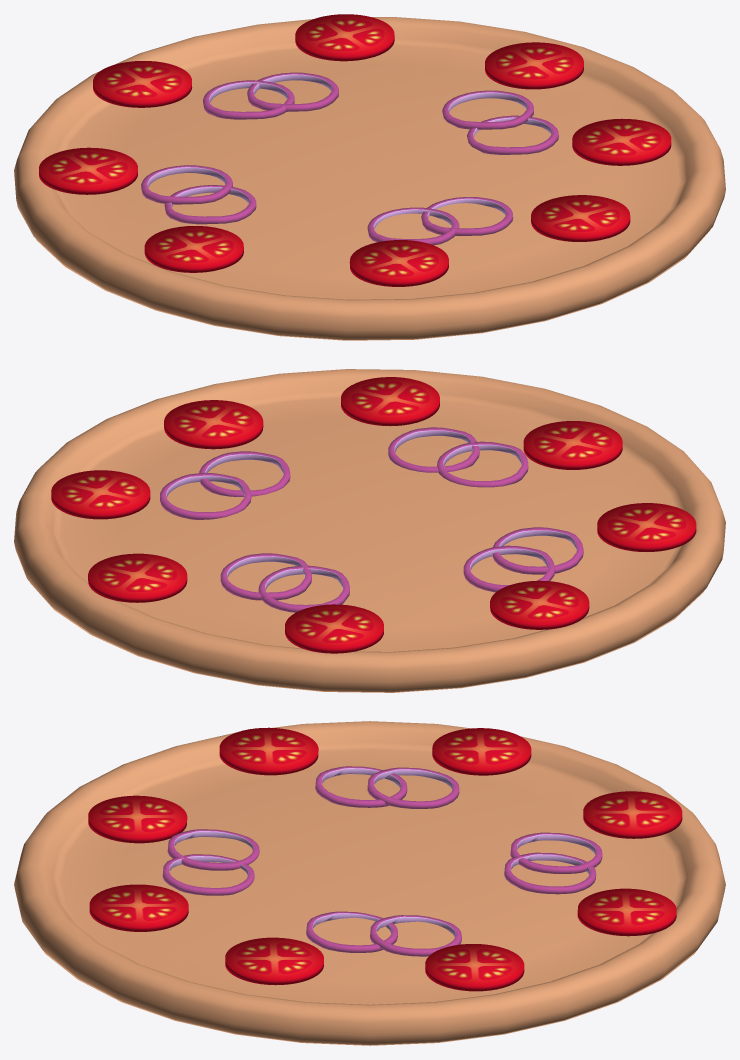
The model's file is oniontomatobakeddough.glb.
3 views of the same model, one above another, from view 1: azimuth 30°, elevation 25°; view 2: azimuth 150°, elevation 25°; view 3: azimuth 270°, elevation 25° (orthographic).
Parts seen in each view (by area): view 1: Dough.001; view 2: Dough.001; view 3: Dough.001.
Boxes of the visible parts, bbox=[...] form: Dough.001: bbox=[14, 14, 725, 340]; Dough.001: bbox=[14, 369, 725, 692]; Dough.001: bbox=[14, 721, 725, 1045].
Size of the model in its own units: 2.53 by 0.1962 by 2.53.
Materials: 26 (8 with a texture image).
